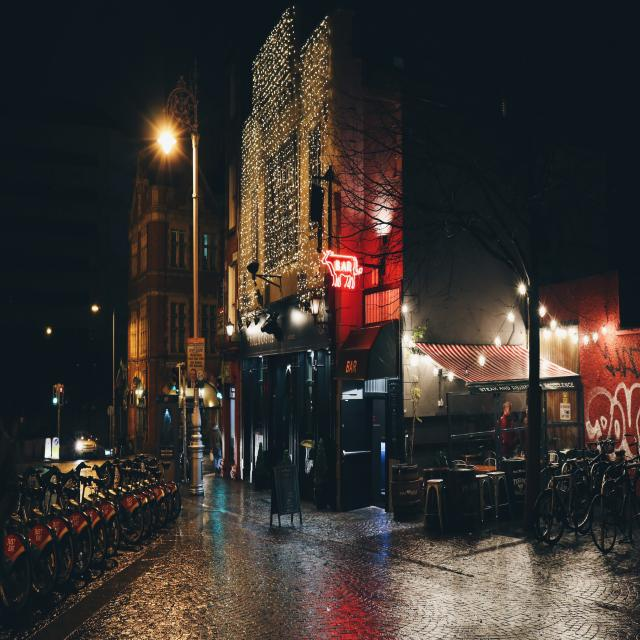Street Light: (158, 84, 208, 496), (92, 305, 117, 455)
